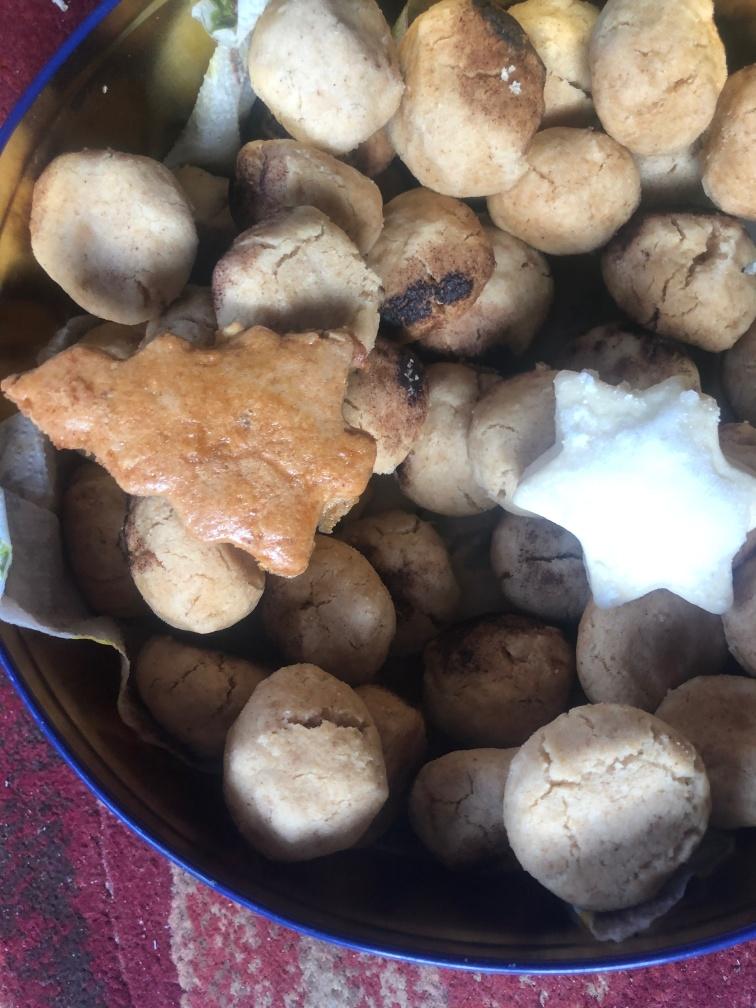christmas tree: (3, 321, 379, 579)
snowball: (502, 700, 711, 904), (218, 656, 388, 867), (400, 1, 547, 198), (29, 149, 196, 321), (244, 1, 399, 152), (218, 208, 380, 346), (588, 1, 723, 157), (606, 216, 756, 346), (485, 127, 635, 256), (425, 616, 562, 743), (382, 189, 493, 340), (409, 356, 487, 517)
star: (508, 364, 756, 612)
